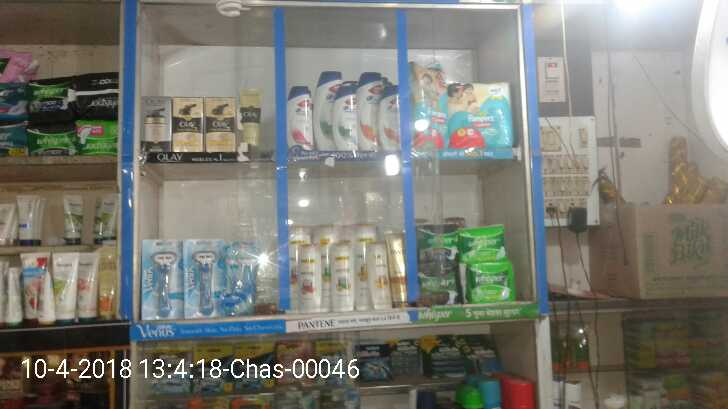gillete: (426, 334, 464, 377), (353, 342, 393, 381), (467, 335, 499, 374), (394, 338, 424, 378)
venus: (142, 238, 183, 320), (221, 238, 260, 317), (183, 238, 221, 317)
